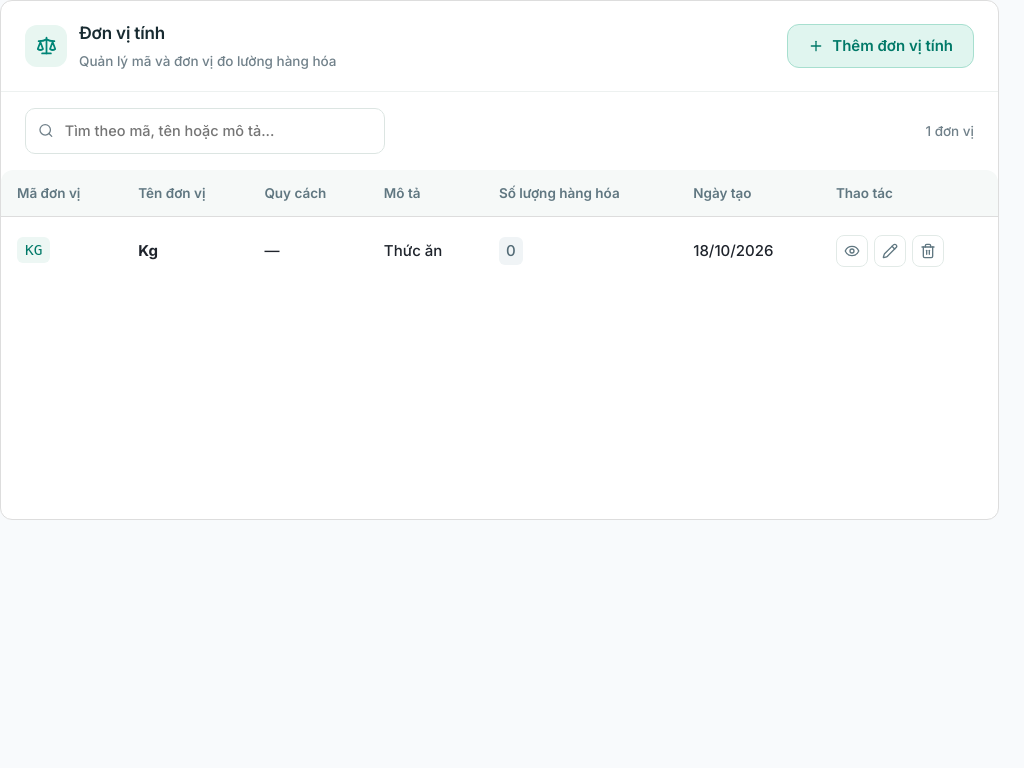
Test: Measurement unit CRUD › keeps the form open and shows server errors without claiming success
This screenshot has width=1024, height=768.
expect the text "Kg" is shown: met, box 138,240 -> 158,260
Click the button "Thêm đơn vị tính".
click(881, 46)  # box 787,24 -> 974,68
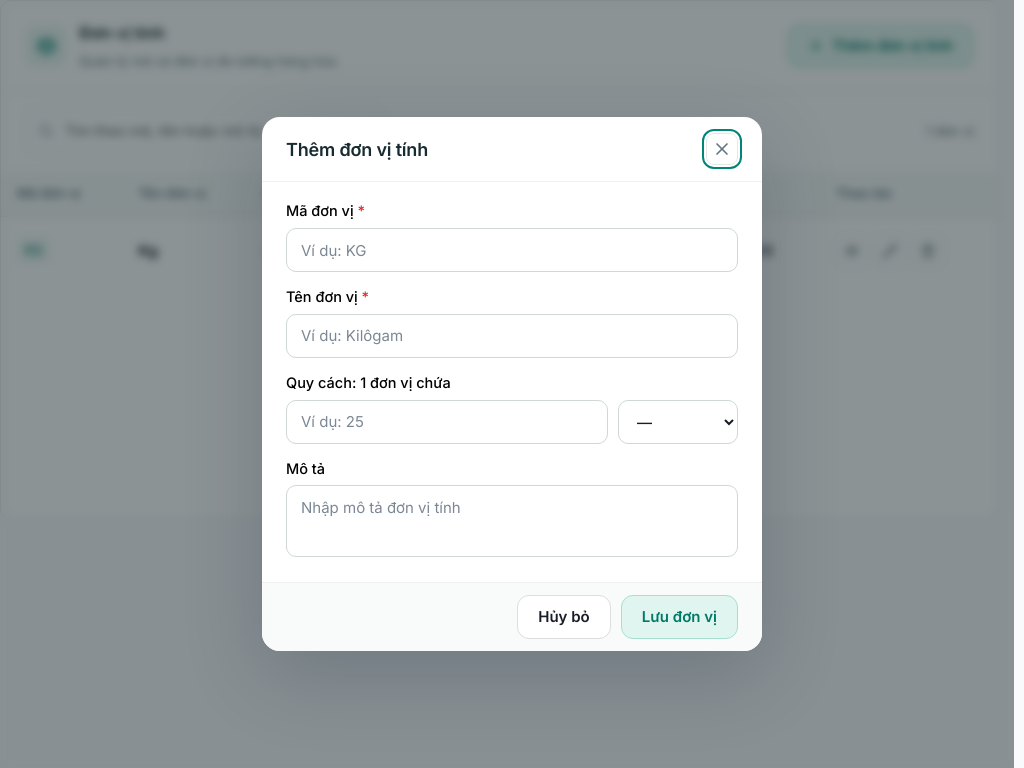
Type "Kg" into the field labelled "Tên đơn vị *".
click(512, 336); type("Kg")  # box 286,314 -> 738,358
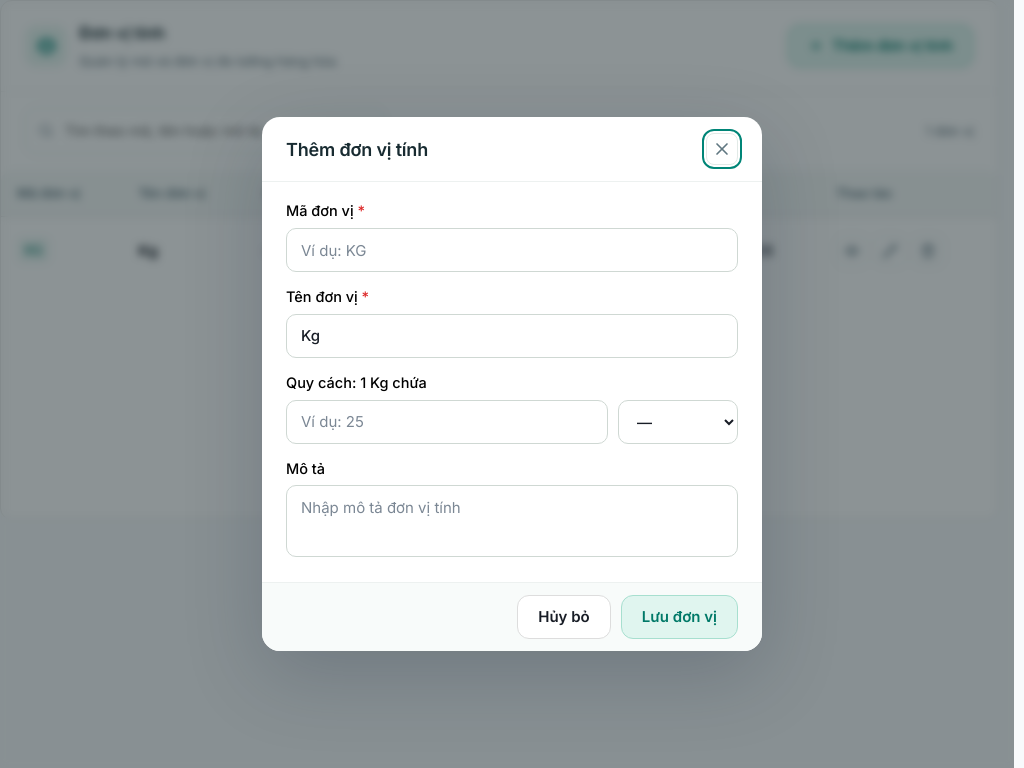
Type "KG" into the field labelled "Mã đơn vị *".
click(512, 250); type("KG")  # box 286,228 -> 738,272
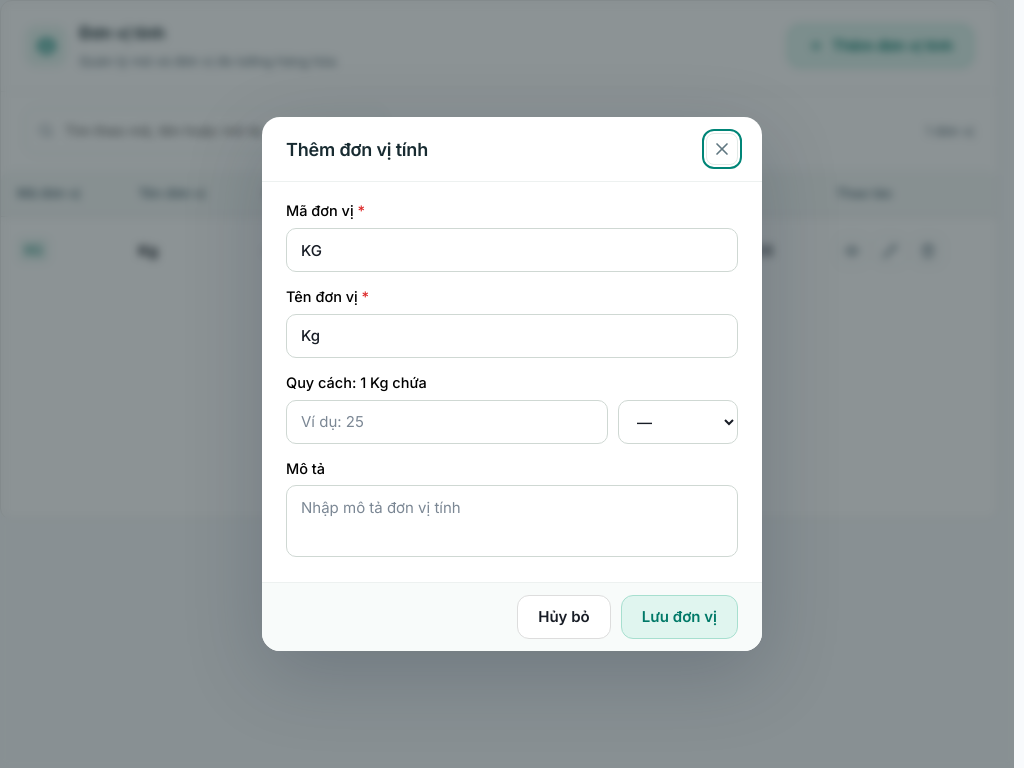
Click the button "Lưu đơn vị".
click(679, 617)  # box 621,595 -> 738,639
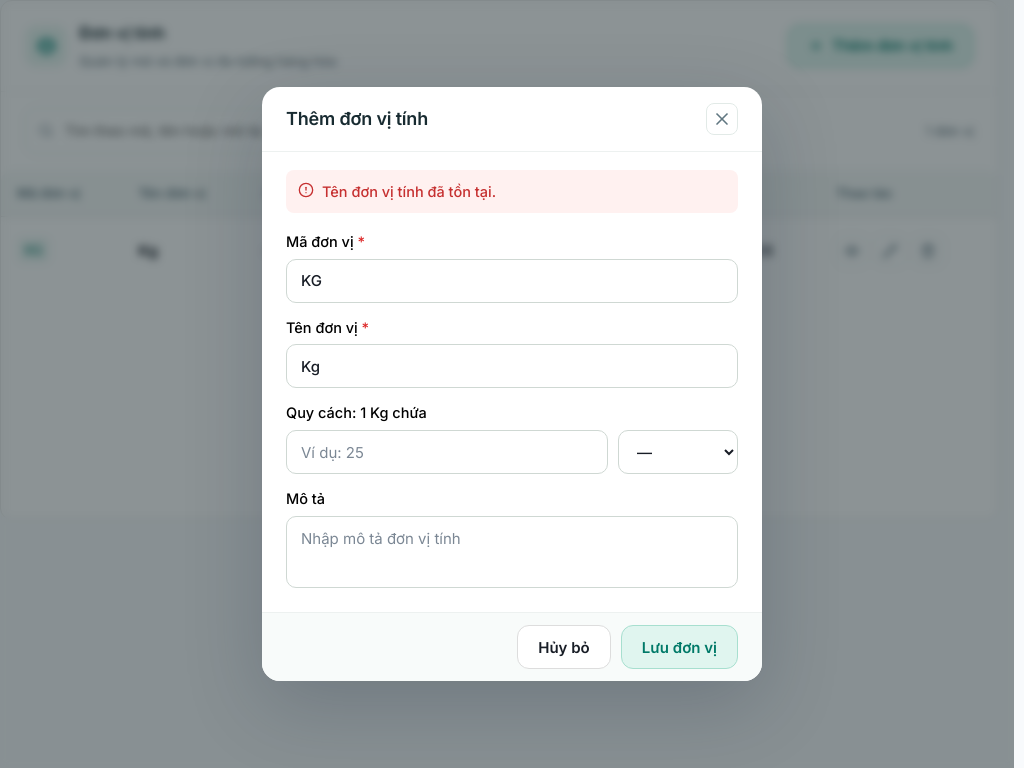
expect the dialog is shown: met, box 262,87 -> 762,681
expect the message reads "Tên đơn vị tính đã tồn tại.": met, box 322,183 -> 496,200
